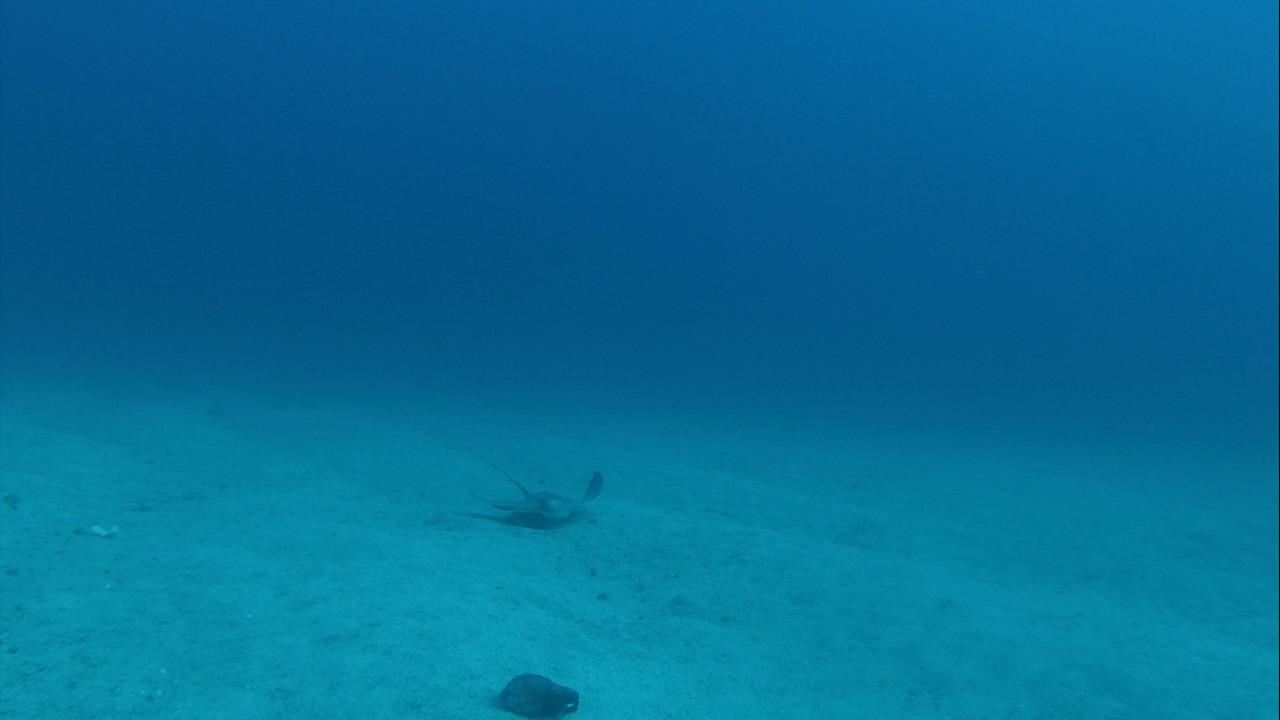myliobatis: (450, 439, 609, 529)
